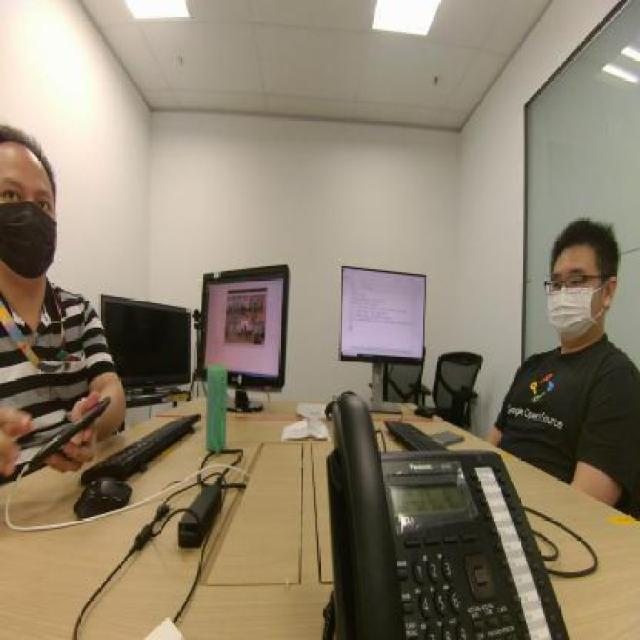Person: (0, 104, 131, 447), (489, 179, 640, 466)
